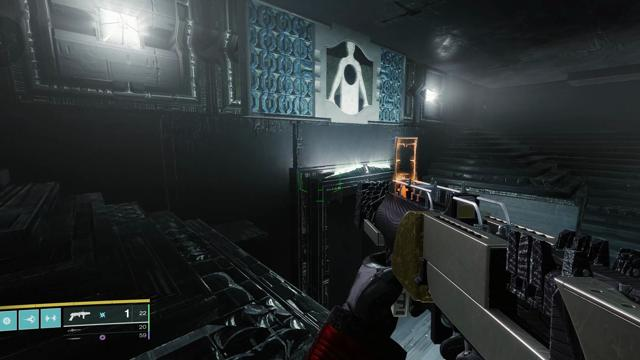grief: (326, 40, 374, 115)
